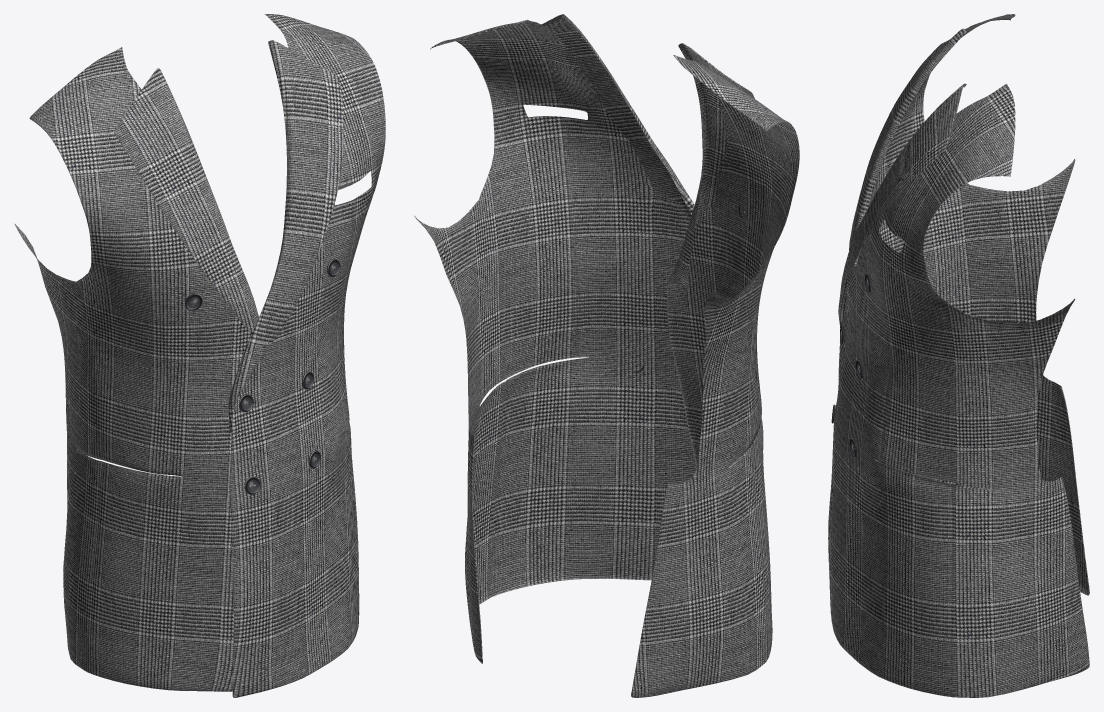
The model's file is nochdoublebrested.glb.
3 views of the same model, side by side, from view 1: azimuth 30°, elevation 25°; view 2: azimuth 150°, elevation 25°; view 3: azimuth 270°, elevation 25° (orthographic). The views are drawn at different scales.
Parts seen in each view (by area): view 1: noch_double_breasted_suit, double_breasted_buttons; view 2: noch_double_breasted_suit; view 3: noch_double_breasted_suit, double_breasted_buttons.
Part boxes in pixels (x1,y1,x2,y2): noch_double_breasted_suit: (14,14,385,697); double_breasted_buttons: (185,259,340,494); noch_double_breasted_suit: (414,14,799,697); noch_double_breasted_suit: (828,14,1089,697); double_breasted_buttons: (831,273,871,456).
Size of the model in its own units: 0.0585 by 0.1021 by 0.0414.
3 materials, 2 textured.
